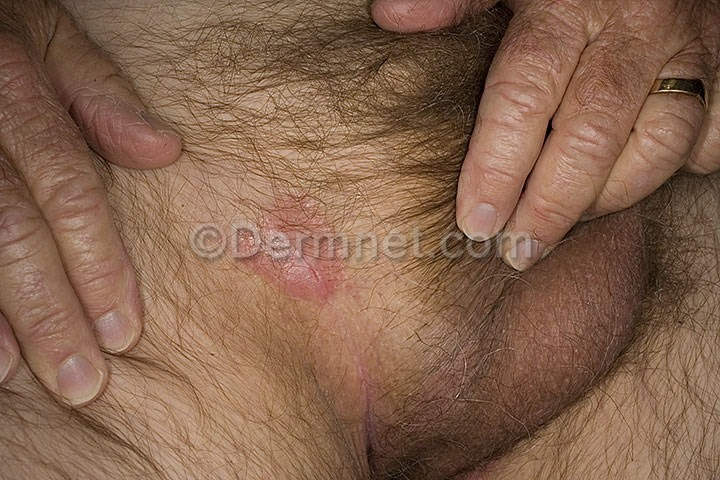Psoriasis: (219, 187, 359, 318)
